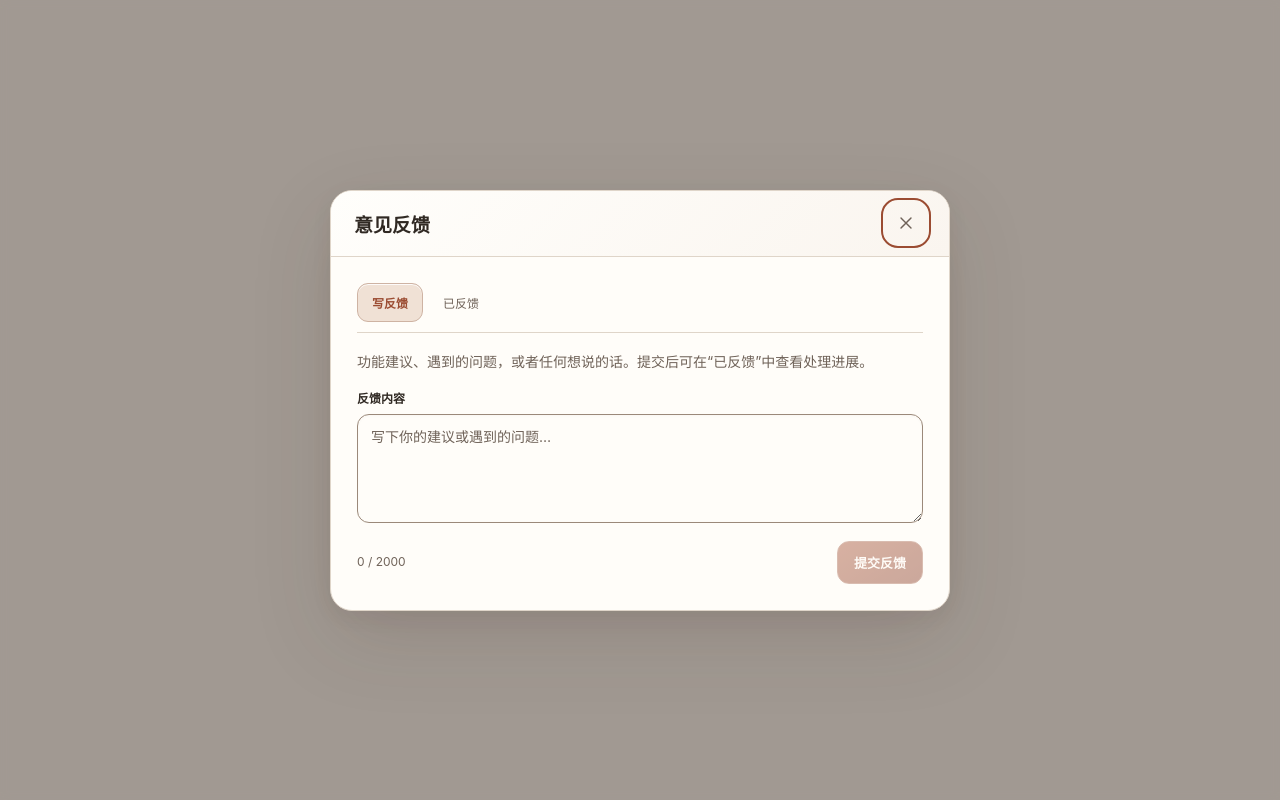
Test case: lets a returning user see submitted feedback and its waiting state
Click the tab "已反馈".
click(461, 302)  # box [428,282,494,322]
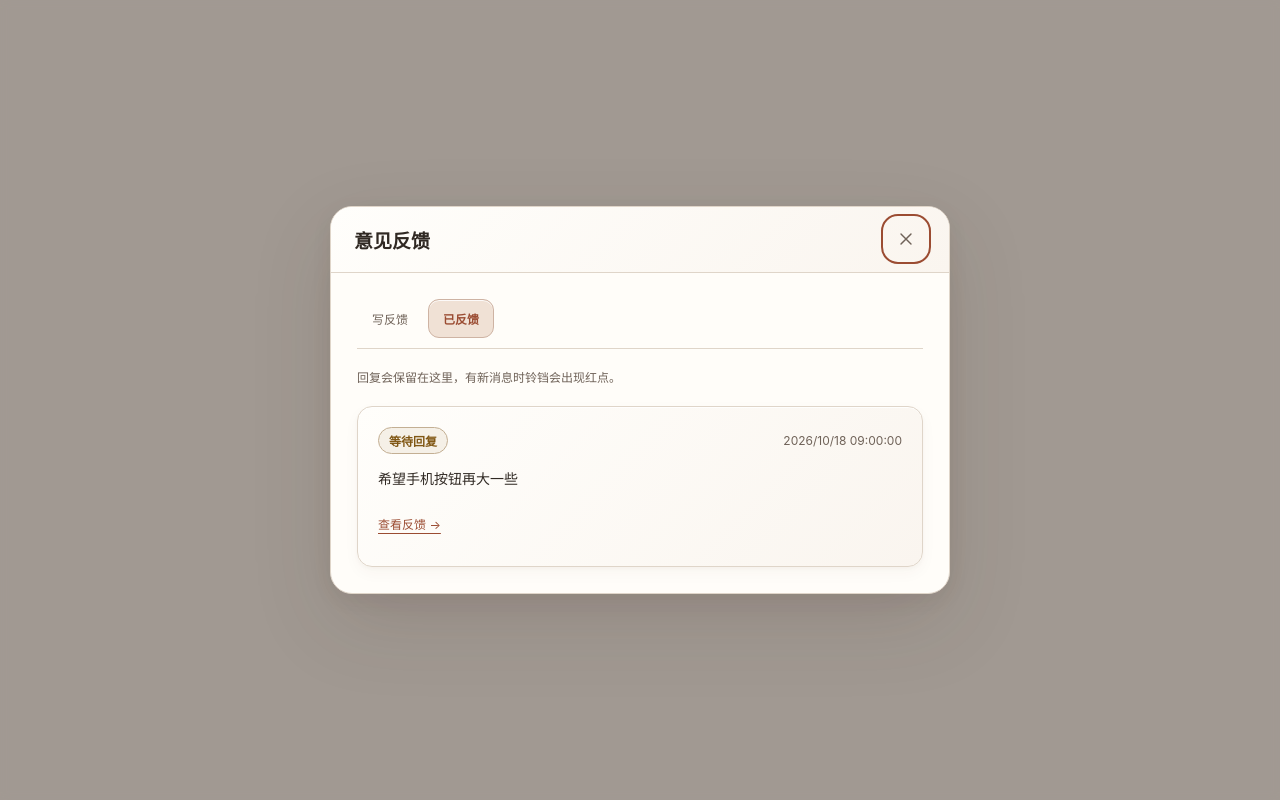
Now the text "希望手机按钮再大一些" is shown, box [378,470,518,487]
Now the text "等待回复" is shown, box [378,427,448,454]
